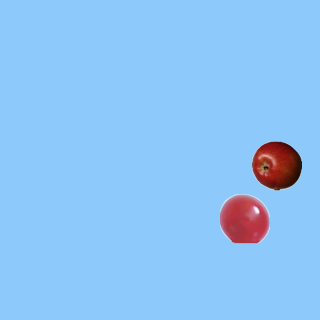Apple Braeburn: (251, 140, 301, 190)
Redcurrant: (219, 193, 269, 243)
